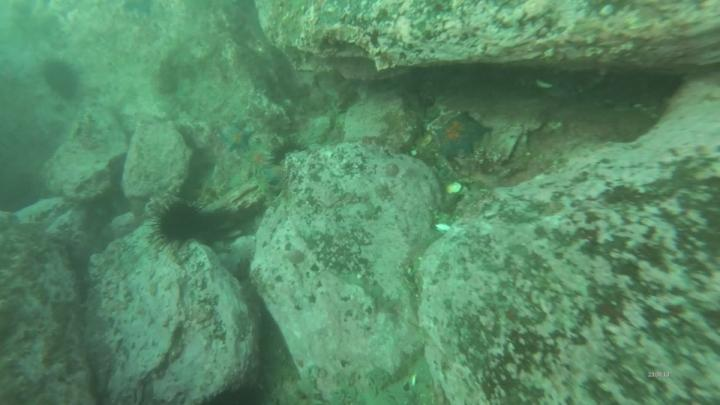echinus: (156, 200, 200, 252), (39, 56, 81, 102)
starfish: (437, 111, 487, 162), (218, 121, 256, 154)
